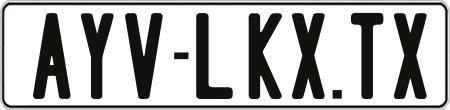A: (30, 10, 71, 98)
K: (249, 13, 286, 103)
L: (193, 13, 232, 101)
T: (351, 11, 385, 97)
V: (122, 13, 166, 101)
X: (394, 11, 433, 98), (292, 11, 328, 103)
Y: (81, 13, 114, 102)
